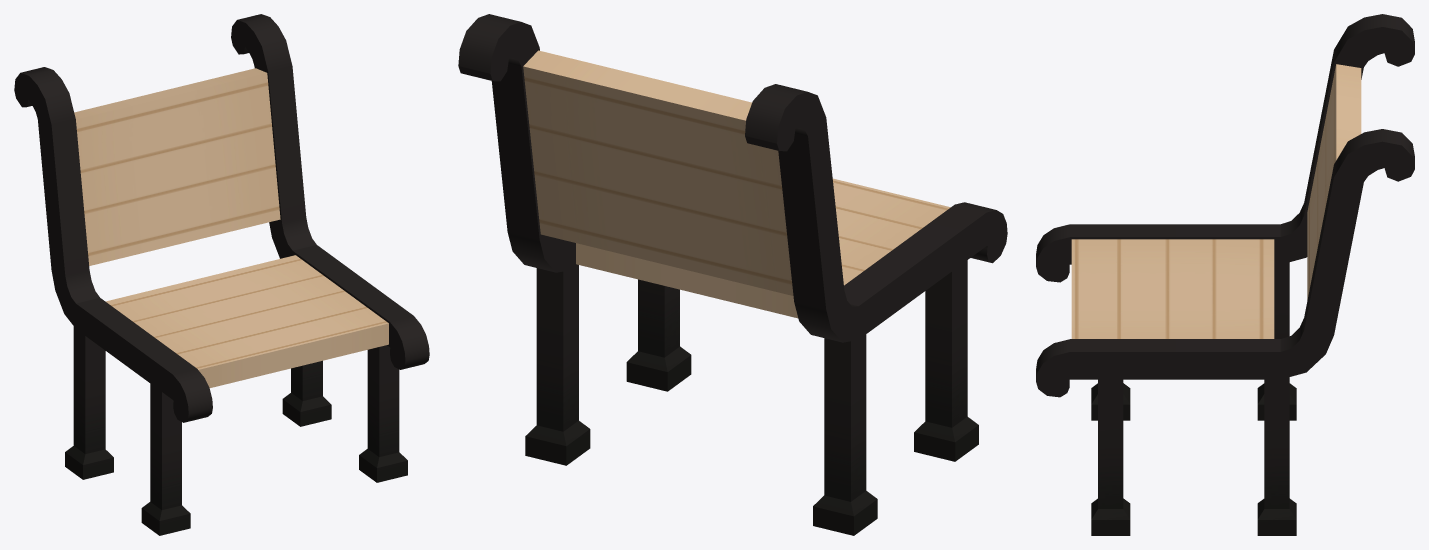
Rendered from stoel.fbx.
The picture shows the model from 3 angles, left to right: view 1: azimuth 30°, elevation 25°; view 2: azimuth 150°, elevation 25°; view 3: azimuth 270°, elevation 25°; orthographic projection. The views are drawn at different scales.
Parts seen in each view (by area): view 1: stoel; view 2: stoel; view 3: stoel.
Boxes of the visible parts, box(x1,y1,x2,y2) form: stoel: box(14, 14, 429, 535); stoel: box(458, 14, 1007, 535); stoel: box(1036, 14, 1414, 535).
Size of the model in its own units: 123 by 171 by 149.
